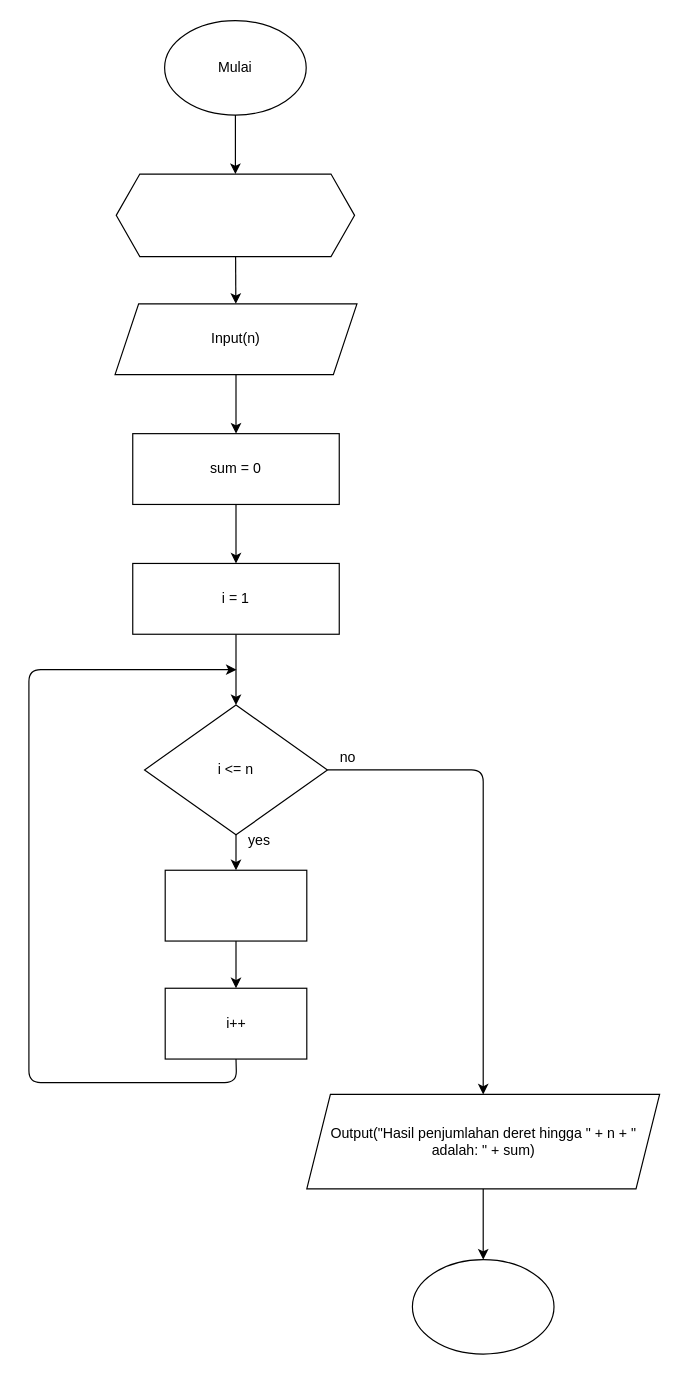
This 681x1375 diagram has some shape labels left out. The box of each missing label's shape, as (x1, y1, x2, y2) in pixels:
int n, i, sum: (115, 173, 355, 257)
Selesai: (411, 1258, 554, 1354)
sum += i: (164, 869, 307, 941)
